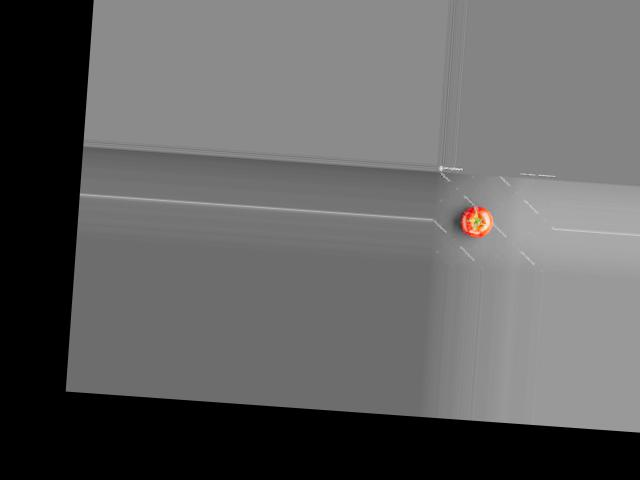tomato: (460, 204, 495, 238)
